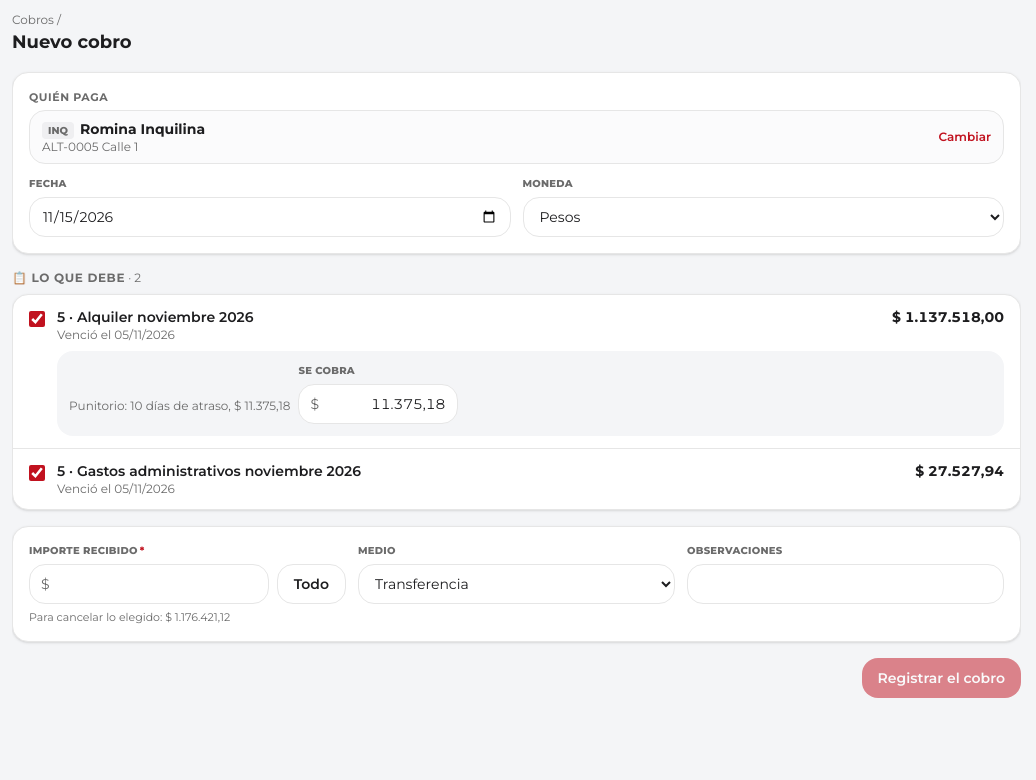
Test case: CobroForm › bajar el punitorio pide el motivo antes de registrar
expect the text "Alquiler noviembre 2026" is shown: met, box [77, 308, 254, 326]
Replace the text in the field named "Punitorio de Alquiler noviembre 2026" with "0". click: point(378, 404)
box: [298, 384, 458, 424]
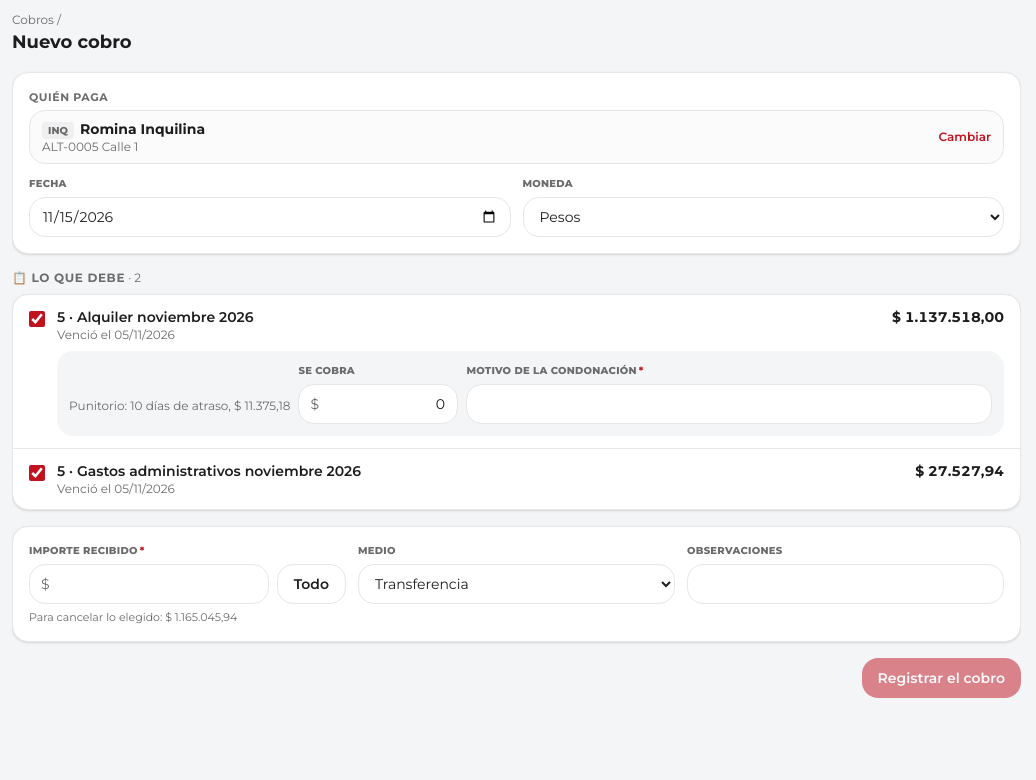
Type "1.165.045,94" into the field labelled "Importe recibido". click: point(149, 584)
box: [29, 564, 269, 604]
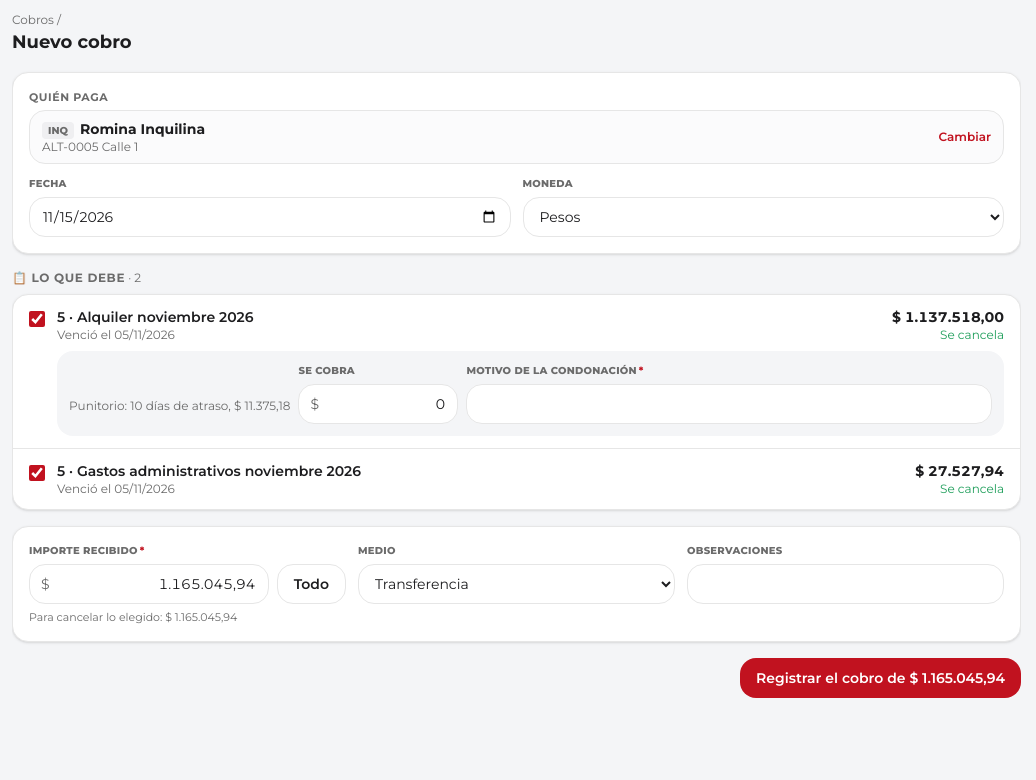
Click the button "Registrar el cobro de $ 1.165.045,94". click: point(880, 678)
box: [740, 658, 1021, 698]
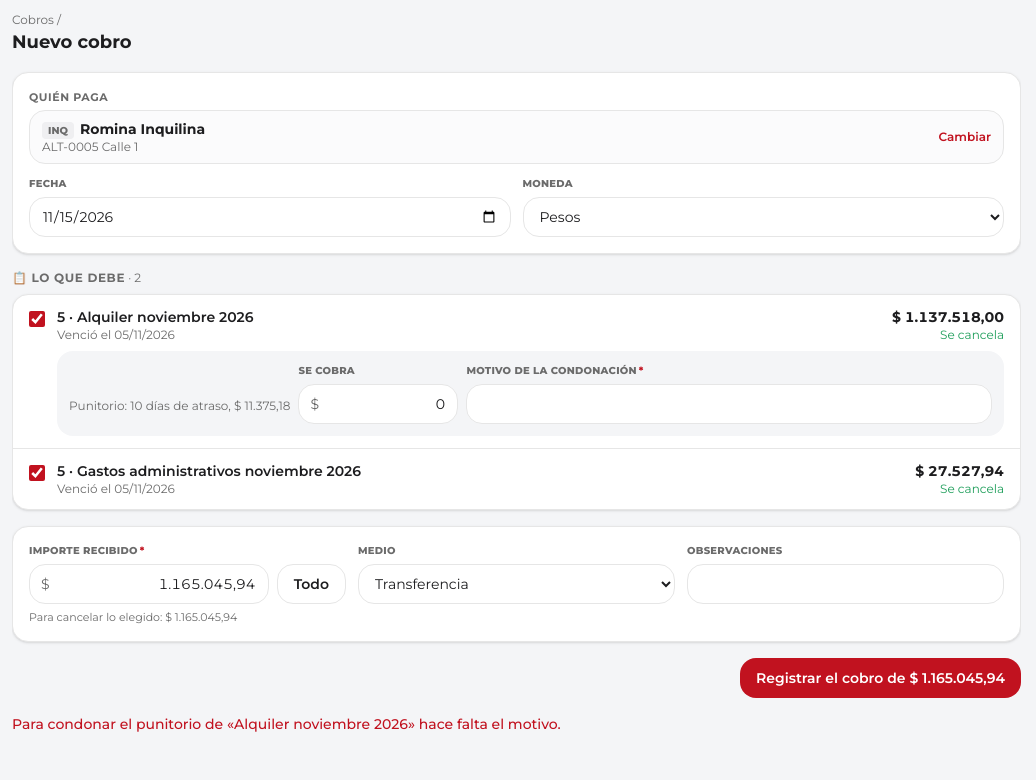
expect the message shows "hace falta el motivo": met, box [12, 715, 561, 733]
